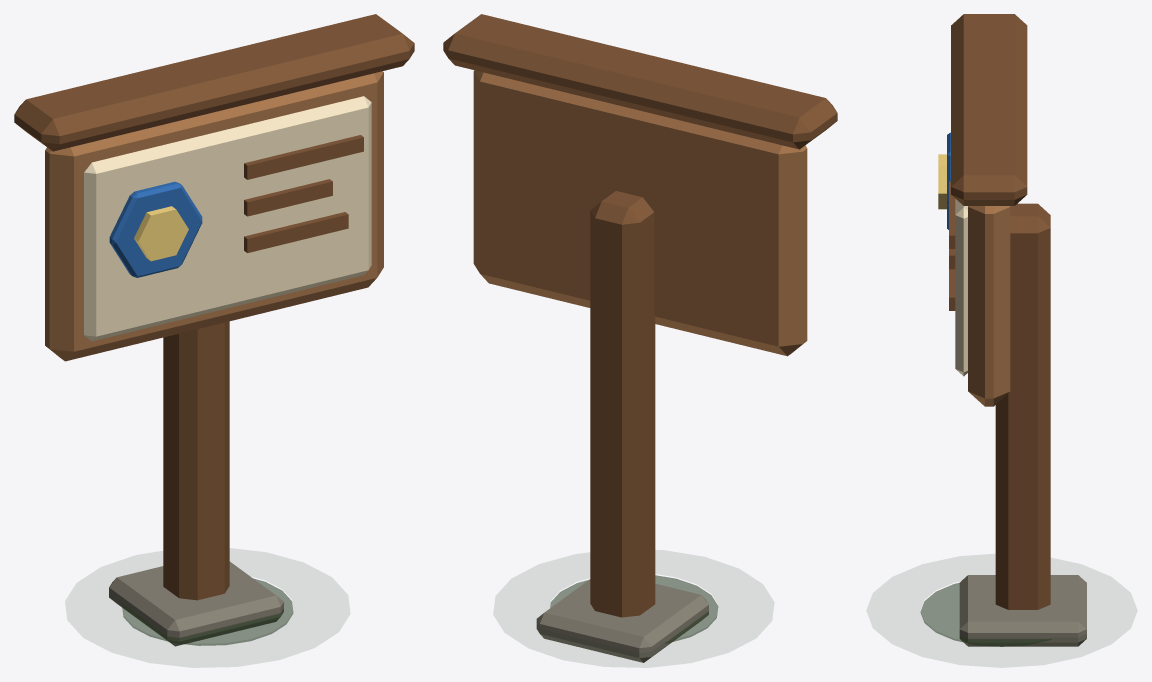
Rendered from sign.glb.
The picture shows the model from 3 angles, left to right: view 1: azimuth 30°, elevation 25°; view 2: azimuth 150°, elevation 25°; view 3: azimuth 270°, elevation 25°; orthographic projection. The views are drawn at different scales.
Visible parts, largest first — view 1: sign; view 2: sign; view 3: sign.
Part boxes in pixels (x1,y1,x2,y2): sign: (14, 14, 414, 646); sign: (443, 14, 837, 662); sign: (920, 14, 1086, 646).
Bounding box in the file's own units: 0.96 × 1.37 × 0.64.
